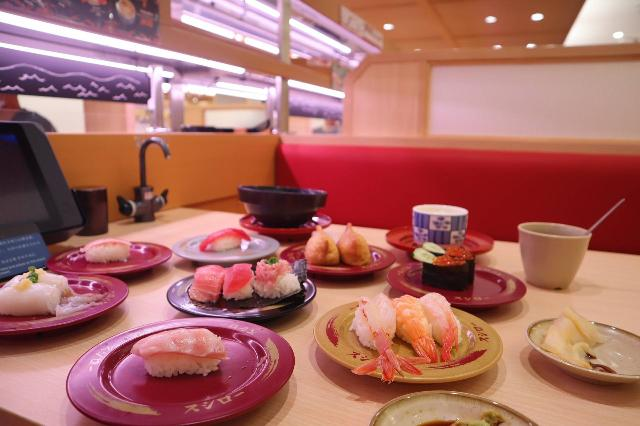janback: (169, 275, 321, 317)
jangold: (303, 290, 498, 387)
janred: (58, 329, 285, 423), (0, 271, 136, 339), (398, 265, 535, 320), (379, 218, 495, 262), (52, 239, 173, 281), (239, 205, 329, 236), (277, 252, 390, 276)
janwhite: (183, 233, 291, 260)
